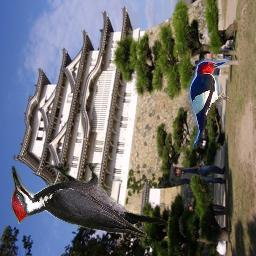Woodpecker: (11, 163, 167, 239), (182, 55, 230, 149)
